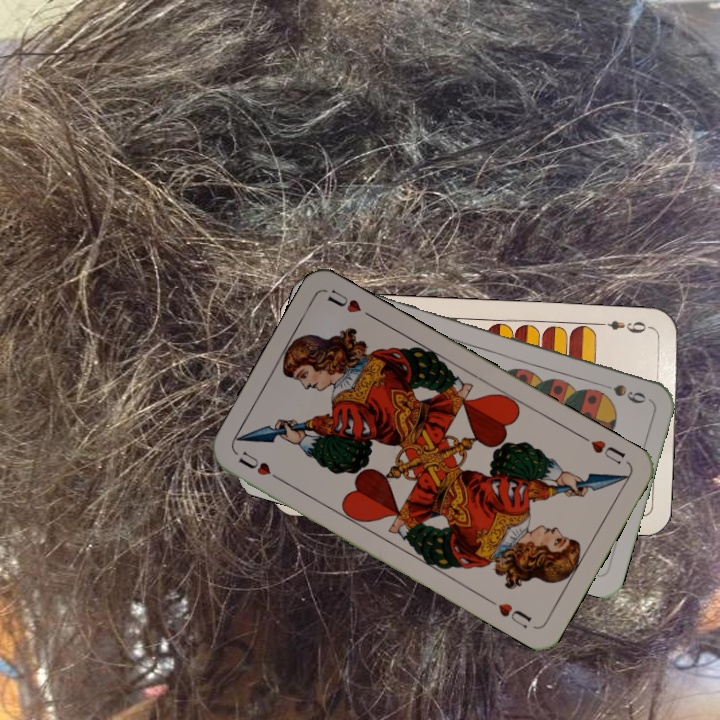E9: (595, 316, 654, 336)
HU: (234, 447, 286, 485), (577, 431, 628, 467)
S9: (593, 378, 649, 406)
